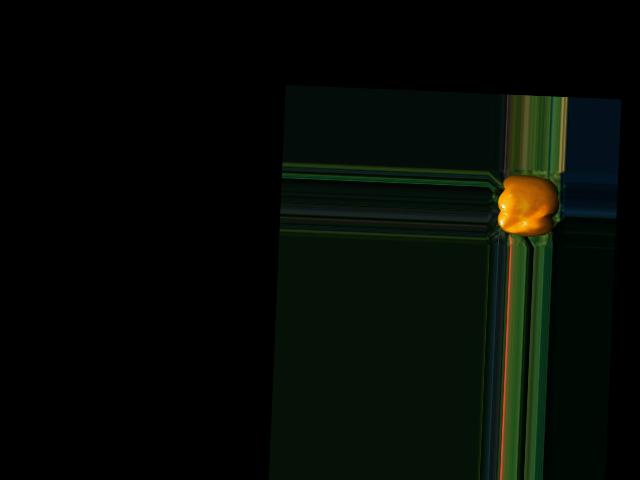bell_pepper: (490, 170, 561, 242)
